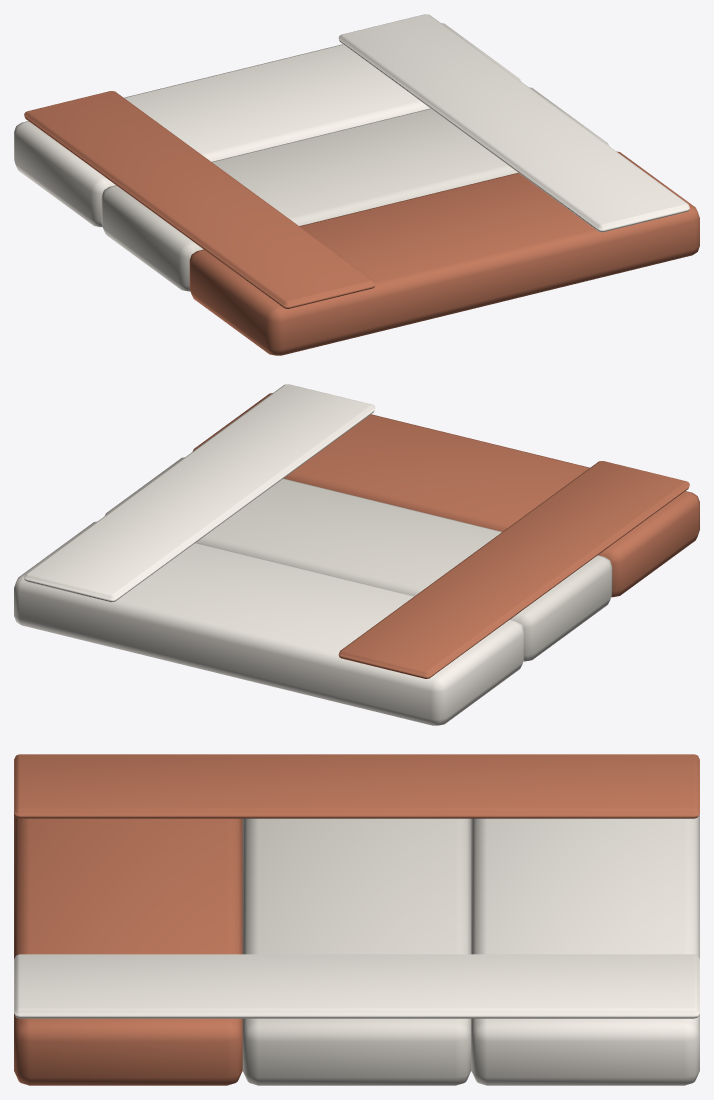
File: vintage_bedspread_03.glb
3 views of the same model, one above another, from view 1: azimuth 30°, elevation 25°; view 2: azimuth 150°, elevation 25°; view 3: azimuth 270°, elevation 25° (orthographic). The views are drawn at different scales.
Visible parts, largest first — view 1: vintage_bedspread_03; view 2: vintage_bedspread_03; view 3: vintage_bedspread_03.
Boxes of the visible parts, x1,y1,x2,y2 form: vintage_bedspread_03: [14, 14, 699, 355]; vintage_bedspread_03: [14, 384, 699, 725]; vintage_bedspread_03: [14, 754, 699, 1085].
Bounding box in the file's own units: 1.65 × 0.205 × 1.74.
